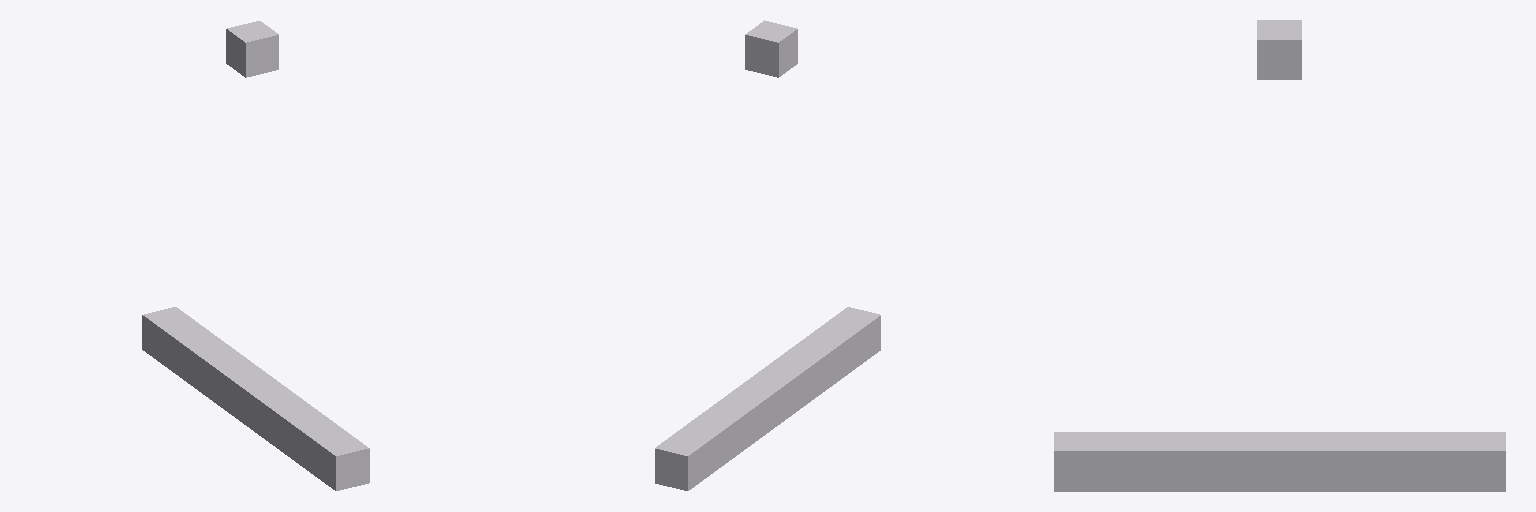
The robot description file, URDF, robot "line":
<?xml version="1.0" ?>
<robot name="line">
	<material name="test"><color rgba=".85 0.84 0.86 1"/></material>
	<link name="base_link">
		<visual>
			<origin xyz="0 0 0" rpy="0 0 0"/>
			<geometry><box size="00000.1 00000.1 00000.1"/></geometry>
			<material name="test"/>
		</visual>
		<inertial><mass value="1.0"/><inertia ixx="0.05" ixy="0" ixz="0" iyy="0.05" iyz="0" izz="0.05"/></inertial>
        <collision>
            <origin xyz="0 0 0" rpy="0 0 0"/>
            <geometry><box size="00000.1 00000.1 00000.1"/></geometry>
        </collision>
	</link>
    <link name="link_1"><visual><geometry><box size="0.1 1 0.1"/></geometry><material name="test"/></visual><inertial><mass value="0.7"/><inertia ixx="0.015" ixy="0" ixz="0" iyy="0.015" iyz="0" izz="0.015"/></inertial><collision><origin xyz="0 0 0" rpy="0 0 0"/><geometry><box size="0.1 1 0.1"/></geometry></collision></link>
    <joint name="joint_1" type="revolute"><parent link="base_link"/><child link="link_1"/><origin xyz="0.01 0.001 -1" rpy="0 0 0"/><axis xyz="0 0 1"/><limit lower="-6.248" upper="6.248" effort="100" velocity="1"/></joint>
</robot>

--- What the picture shows (computed from the rendered views, not written in the file) ---
The picture shows the robot from 3 angles, left to right: view 1: azimuth 30°, elevation 25°; view 2: azimuth 150°, elevation 25°; view 3: azimuth 270°, elevation 25°; orthographic projection.
Model line with 2 links and 1 joints (1 revolute), rooted at base_link, posed every joint at zero.
Visible links, largest first — view 1: link_1, base_link; view 2: link_1, base_link; view 3: link_1, base_link.
Link boxes in pixels (box(x1,y1,x2,y2)): link_1: box(142, 307, 369, 490); base_link: box(226, 21, 278, 77); link_1: box(655, 307, 880, 490); base_link: box(745, 20, 797, 77); link_1: box(1054, 432, 1505, 491); base_link: box(1257, 20, 1301, 79).
Size in the robot's own frame: 0.11 by 1 by 1.1 metres.
Geometry: primitives only (box / cylinder / sphere), no mesh files.
